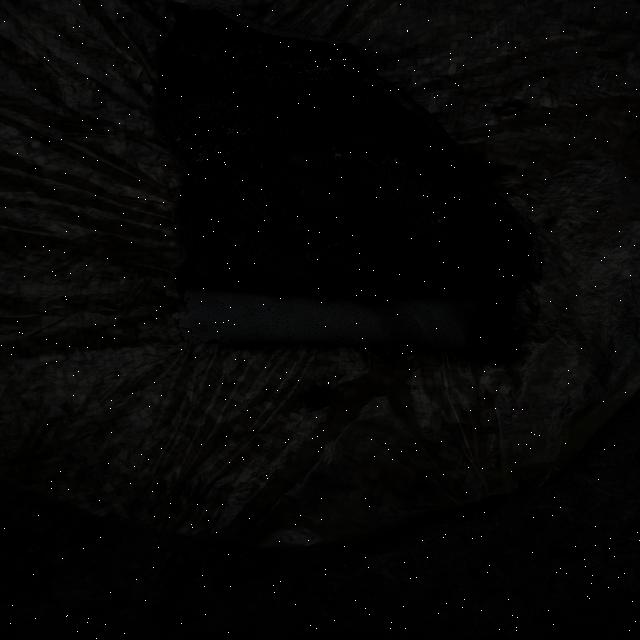injera_mold: (308, 252, 322, 260), (361, 140, 372, 150), (490, 239, 502, 248), (392, 158, 402, 168), (316, 64, 326, 72), (465, 293, 478, 299), (192, 157, 204, 163), (357, 77, 365, 85), (360, 255, 368, 263), (196, 153, 206, 158), (220, 296, 230, 301), (401, 172, 406, 182), (334, 151, 341, 158), (228, 126, 234, 134), (370, 178, 376, 186), (328, 246, 339, 250), (233, 46, 240, 52), (283, 84, 290, 90), (290, 80, 296, 87), (381, 160, 388, 166), (250, 46, 258, 51), (176, 137, 182, 142), (377, 78, 383, 83), (309, 67, 315, 72), (300, 190, 306, 195), (197, 144, 204, 148), (270, 77, 275, 82), (186, 56, 192, 60), (325, 55, 331, 59), (181, 46, 187, 50), (235, 128, 241, 132), (242, 130, 246, 136), (286, 41, 292, 45), (333, 103, 341, 106), (304, 51, 308, 56), (310, 63, 315, 67), (327, 65, 329, 74), (280, 54, 284, 58), (437, 219, 441, 223), (288, 64, 292, 68), (202, 56, 206, 60), (467, 194, 471, 198), (402, 162, 404, 169), (348, 78, 355, 80), (339, 175, 343, 178), (180, 10, 182, 16), (262, 92, 266, 95), (300, 79, 304, 82), (292, 88, 296, 91), (166, 33, 170, 36), (309, 78, 314, 80), (329, 74, 334, 76), (332, 147, 335, 150), (329, 76, 332, 79), (299, 71, 302, 74), (305, 69, 308, 72), (342, 75, 345, 78), (315, 59, 318, 62), (322, 52, 325, 55), (347, 55, 350, 58), (338, 49, 341, 52), (322, 72, 325, 75), (340, 67, 343, 70), (260, 163, 262, 167), (378, 188, 380, 192), (318, 75, 322, 77), (315, 76, 317, 80), (276, 76, 280, 78), (288, 57, 292, 59), (331, 44, 335, 46), (317, 63, 321, 65), (324, 76, 328, 78), (338, 80, 342, 82), (262, 112, 266, 114), (217, 146, 220, 148), (362, 188, 365, 190), (300, 86, 303, 88), (286, 61, 289, 63), (339, 53, 341, 56), (325, 62, 328, 64), (330, 65, 332, 68), (336, 60, 338, 63), (345, 71, 348, 73), (303, 76, 306, 78), (246, 76, 248, 79), (193, 55, 196, 57), (215, 45, 218, 47), (220, 62, 222, 64), (252, 150, 254, 152), (402, 176, 404, 178), (310, 61, 312, 63), (298, 61, 302, 62), (320, 49, 322, 51), (335, 52, 337, 54), (332, 55, 334, 57), (334, 56, 336, 58), (333, 78, 335, 80), (327, 83, 329, 85), (356, 93, 358, 95), (265, 60, 267, 62), (230, 73, 232, 75), (240, 87, 242, 89), (232, 44, 234, 46), (252, 57, 254, 59), (193, 49, 195, 51), (187, 52, 189, 54), (331, 49, 334, 50), (316, 73, 319, 74), (333, 74, 336, 75), (333, 59, 334, 61), (335, 84, 337, 85), (346, 84, 348, 85), (300, 98, 302, 99), (268, 85, 269, 87), (240, 96, 241, 98), (279, 66, 280, 68), (234, 80, 236, 81), (190, 49, 192, 50), (241, 54, 242, 56), (280, 62, 281, 63), (233, 75, 234, 76), (319, 56, 321, 56)
